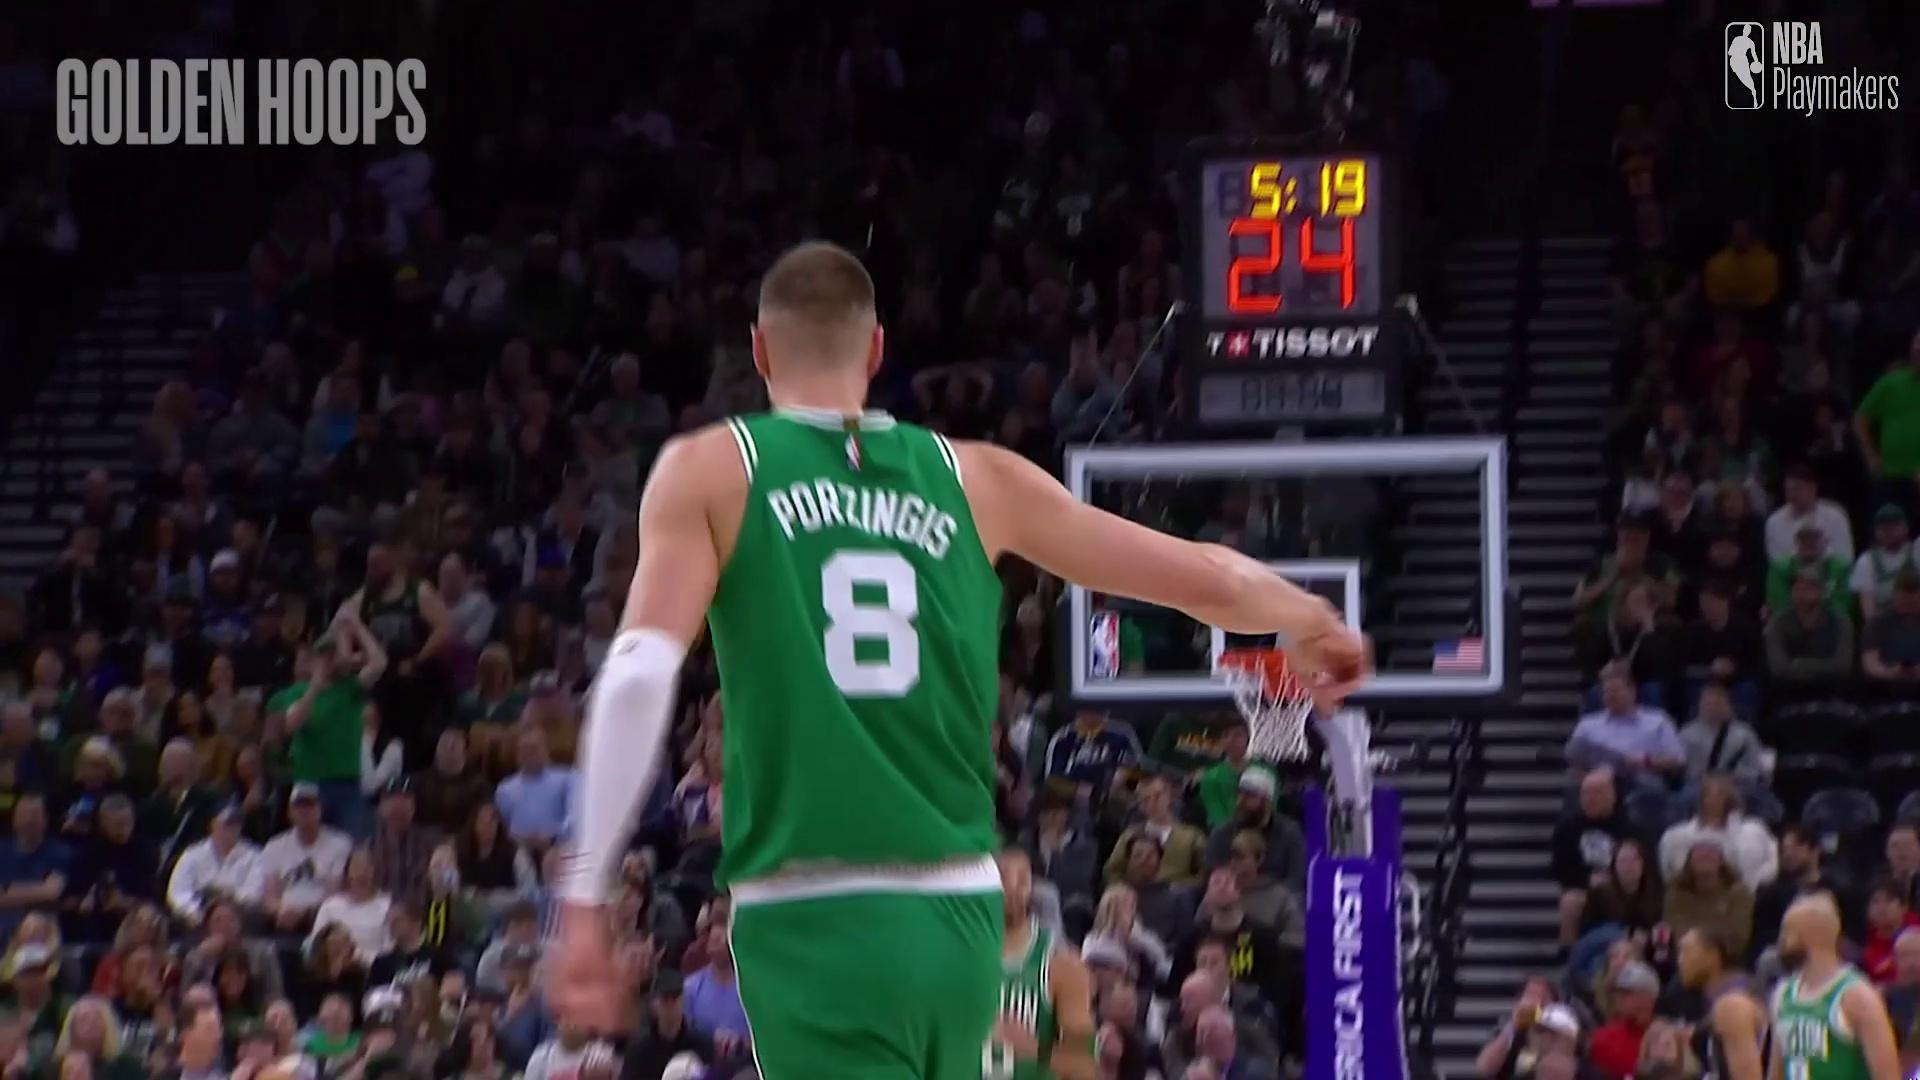hoop: (1224, 650, 1304, 764)
